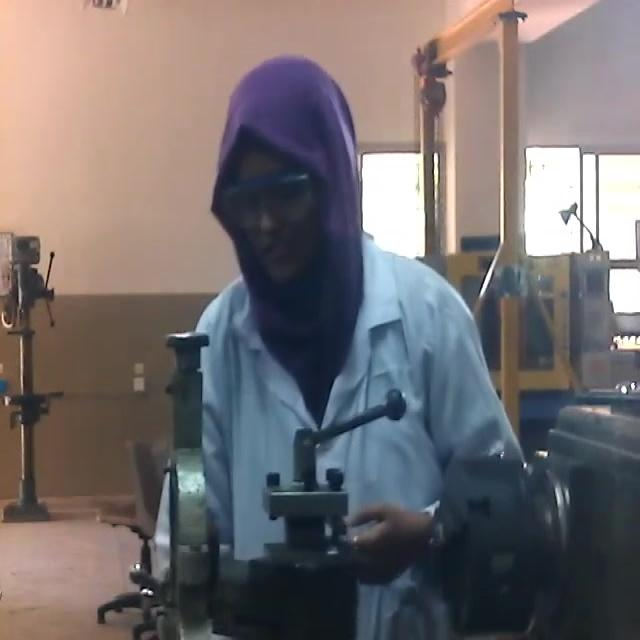googles: (216, 166, 320, 226)
labcoat: (148, 230, 528, 640)
